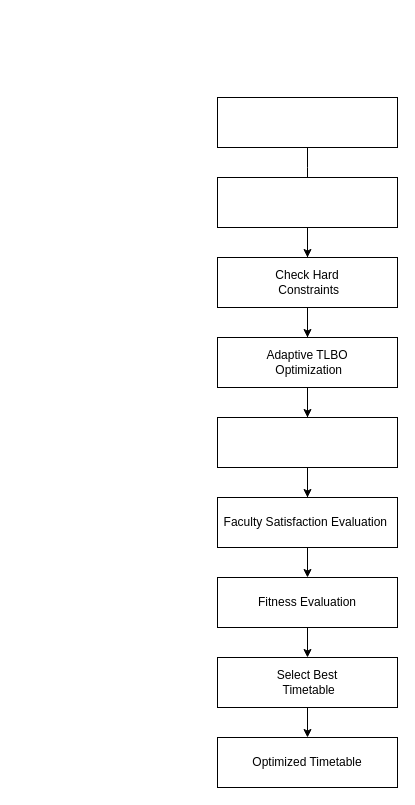
This 415x805 diagram has some shape labels left out. Here are the shapes that lost their labels. From the top down, the centre of each, then its label:
[307,122]: Load Dataset
[307,202]: Generate Initial Timetable
[307,442]: Update Dynami c Priorities
